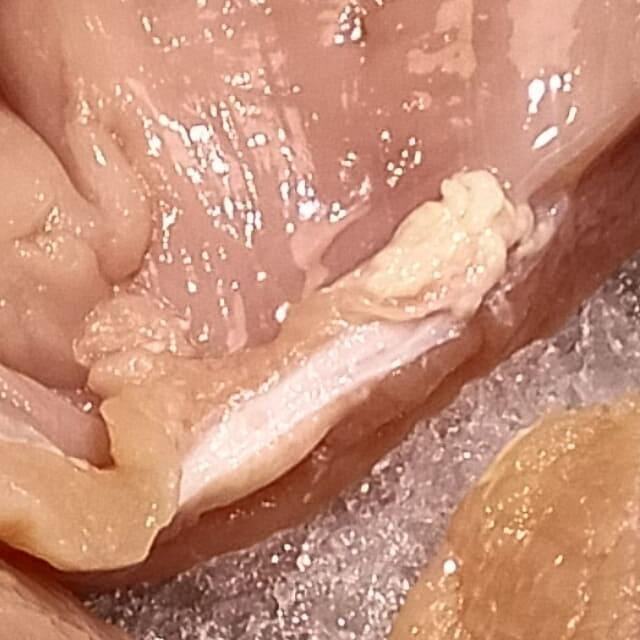chicken: (327, 253, 640, 640), (0, 363, 365, 640)
